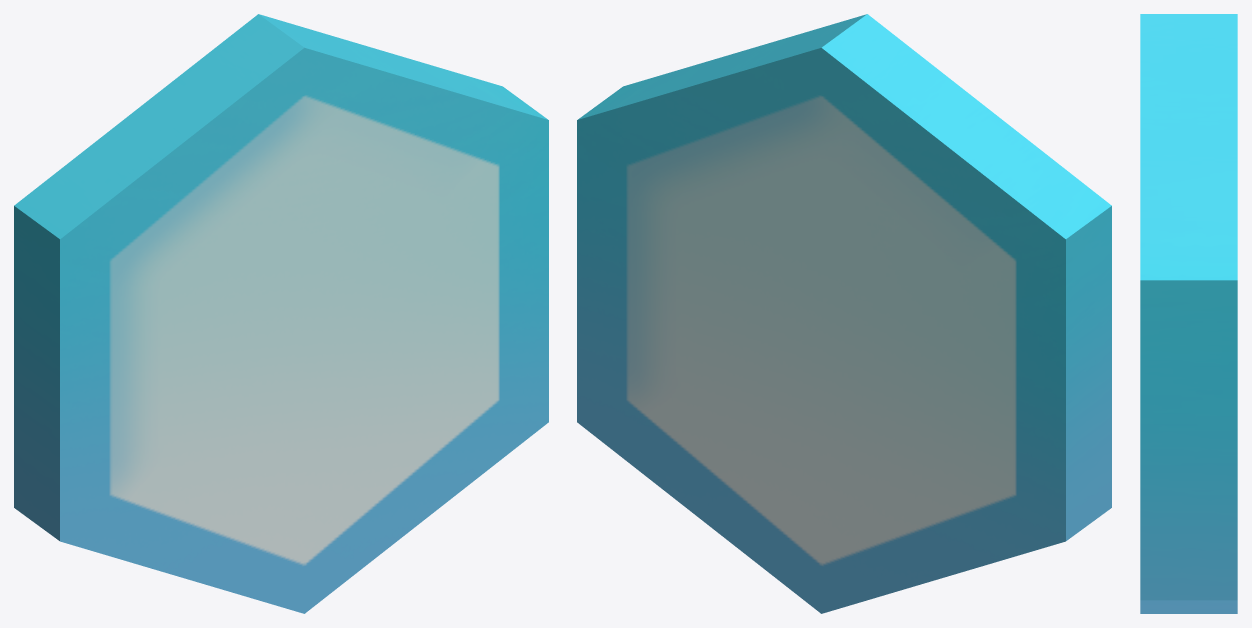
Rendered from Coin.fbx.
3 views of the same model, side by side, from view 1: azimuth 30°, elevation 25°; view 2: azimuth 150°, elevation 25°; view 3: azimuth 270°, elevation 25° (orthographic). The views are drawn at different scales.
Parts seen in each view (by area): view 1: Coin; view 2: Coin; view 3: Coin.
Boxes of the visible parts, left/top/right/bottom form: Coin: left=14, top=14, right=548, bottom=613; Coin: left=577, top=14, right=1111, bottom=613; Coin: left=1140, top=14, right=1237, bottom=613.
Bounding box in the file's own units: 22.68 × 25.11 × 3.7.
Materials: 1 (1 with a texture image).
